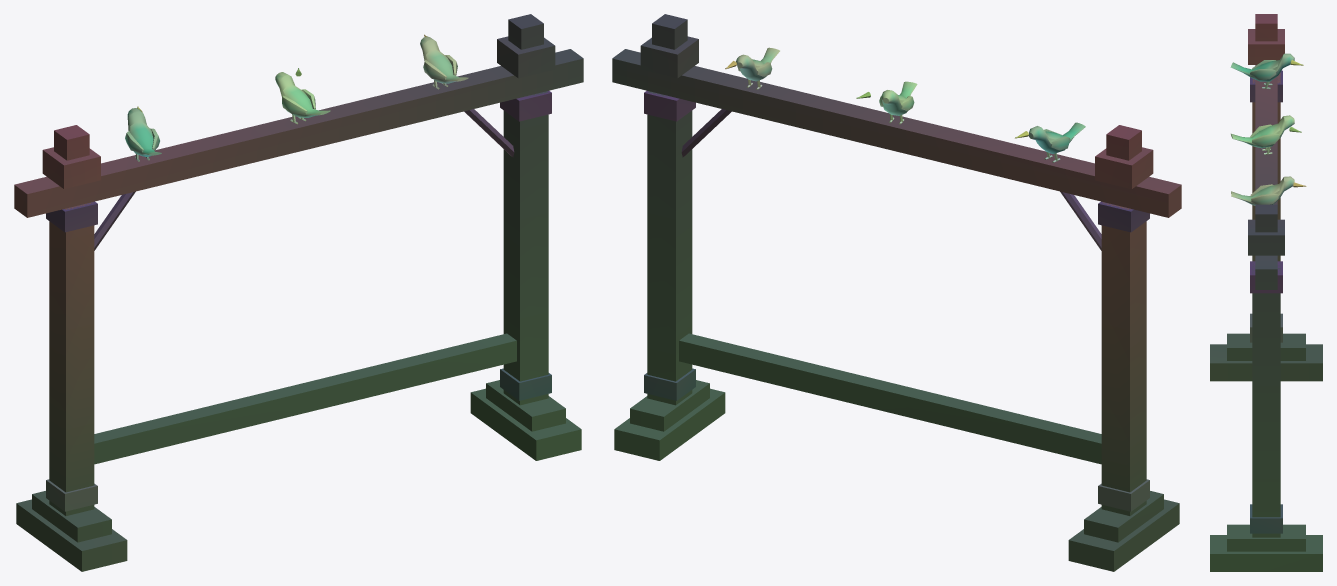
Rendered from perch_rail.glb.
3 views of the same model, side by side, from view 1: azimuth 30°, elevation 25°; view 2: azimuth 150°, elevation 25°; view 3: azimuth 270°, elevation 25° (orthographic). The views are drawn at different scales.
Parts seen in each view (by area): view 1: perch, perch_iron, perch_lark1_body, perch_lark2_body, perch_lark0_body; view 2: perch, perch_iron, perch_lark0_body, perch_lark2_body, perch_lark1_body; view 3: perch, perch_iron, perch_lark1_body, perch_lark0_body, perch_lark2_body.
Part boxes in pixels (left/top/right/bottom): perch: left=14, top=14, right=583, bottom=571; perch_iron: left=46, top=91, right=551, bottom=511; perch_lark1_body: left=275, top=72, right=330, bottom=124; perch_lark2_body: left=420, top=36, right=468, bottom=89; perch_lark0_body: left=125, top=108, right=161, bottom=161; perch: left=612, top=14, right=1181, bottom=571; perch_iron: left=644, top=91, right=1149, bottom=511; perch_lark0_body: left=1028, top=122, right=1085, bottom=162; perch_lark2_body: left=736, top=47, right=779, bottom=89; perch_lark1_body: left=879, top=81, right=917, bottom=124; perch: left=1210, top=14, right=1322, bottom=571; perch_iron: left=1250, top=70, right=1282, bottom=533; perch_lark1_body: left=1231, top=115, right=1294, bottom=154; perch_lark0_body: left=1230, top=53, right=1294, bottom=89; perch_lark2_body: left=1231, top=176, right=1294, bottom=205.
Size of the model in its own units: 1.96 by 1.38 by 0.4.
